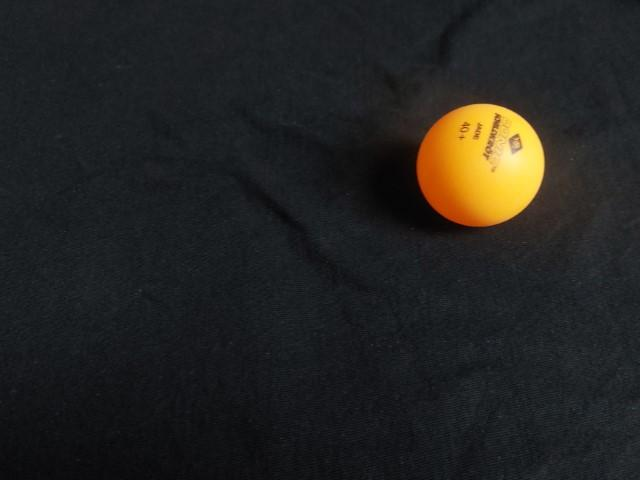oball: (413, 94, 553, 235)
